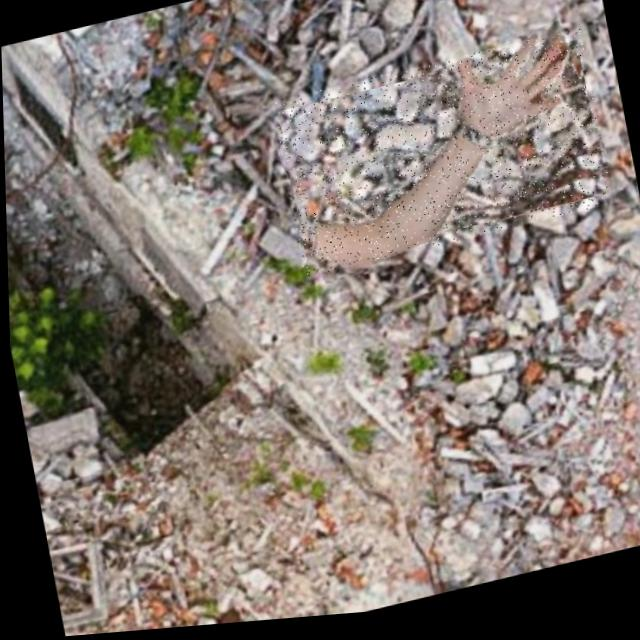Person in Rubble: (270, 36, 613, 284)
